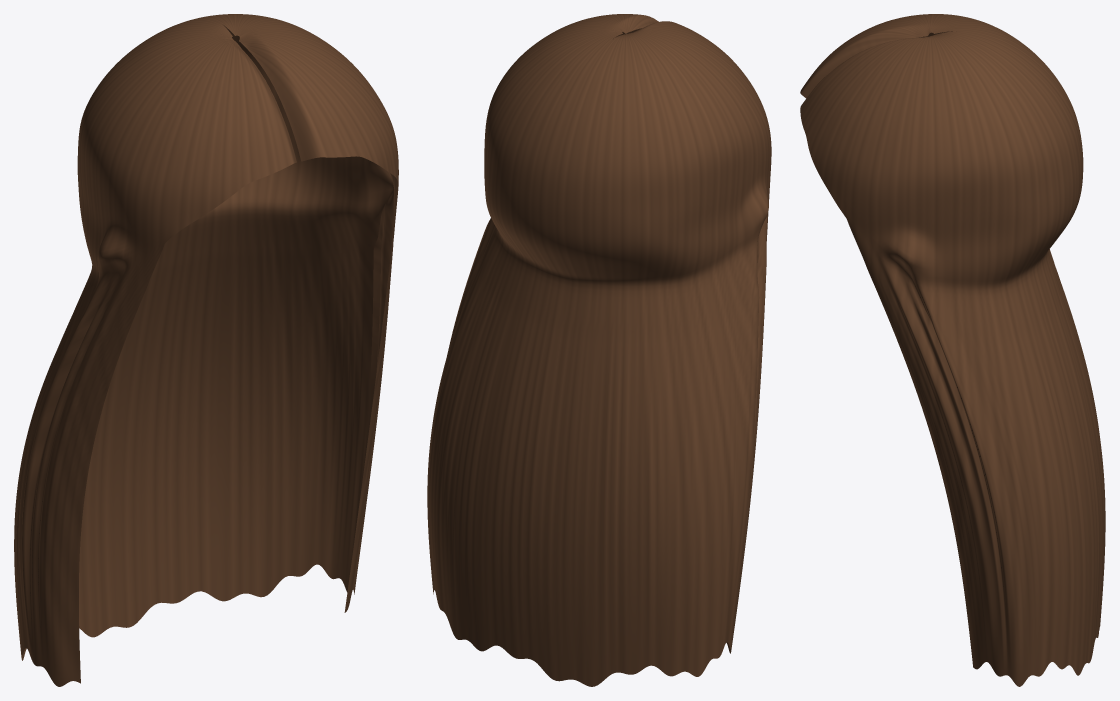
Rendered from LANPASU_Hair_1A_Long_Straight_v002.glb.
The picture shows the model from 3 angles, left to right: view 1: azimuth 30°, elevation 25°; view 2: azimuth 150°, elevation 25°; view 3: azimuth 270°, elevation 25°; orthographic projection. The views are drawn at different scales.
Parts seen in each view (by area): view 1: Hair_1A_Long_Straight; view 2: Hair_1A_Long_Straight; view 3: Hair_1A_Long_Straight.
Part boxes in pixels (x1,y1,x2,y2): Hair_1A_Long_Straight: (14, 14, 398, 686); Hair_1A_Long_Straight: (427, 14, 771, 686); Hair_1A_Long_Straight: (800, 14, 1105, 686).
Bounding box in the file's own units: 0.3487 × 0.6284 × 0.2878.
